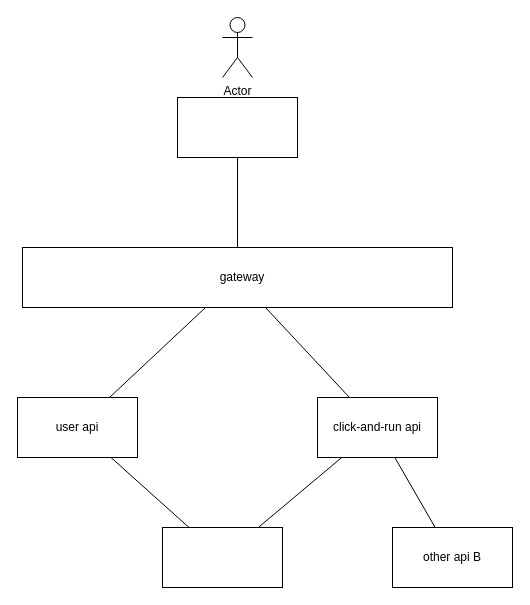
The diagram is 530 pixels wide and 605 high, and some of its shapes have lost their labels. Each missing label, with the centre of its shape:
click-and-run front: pixel 237 127
other api A: pixel 222 557
